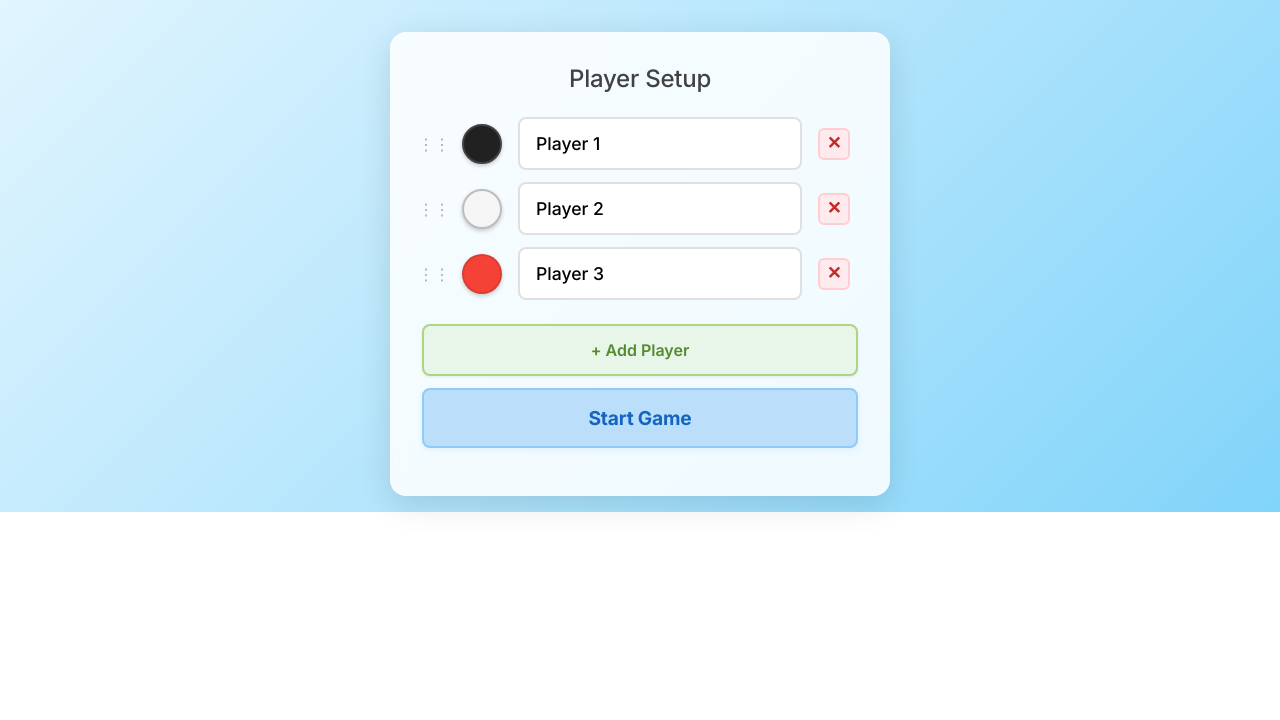
Test: PlayerSetup › should enable start button when all names are filled after being empty
This screenshot has width=1280, height=720.
# Clear one name
Clear the field named "Player 1 name" at x=660, y=144, box [518, 117, 802, 170]
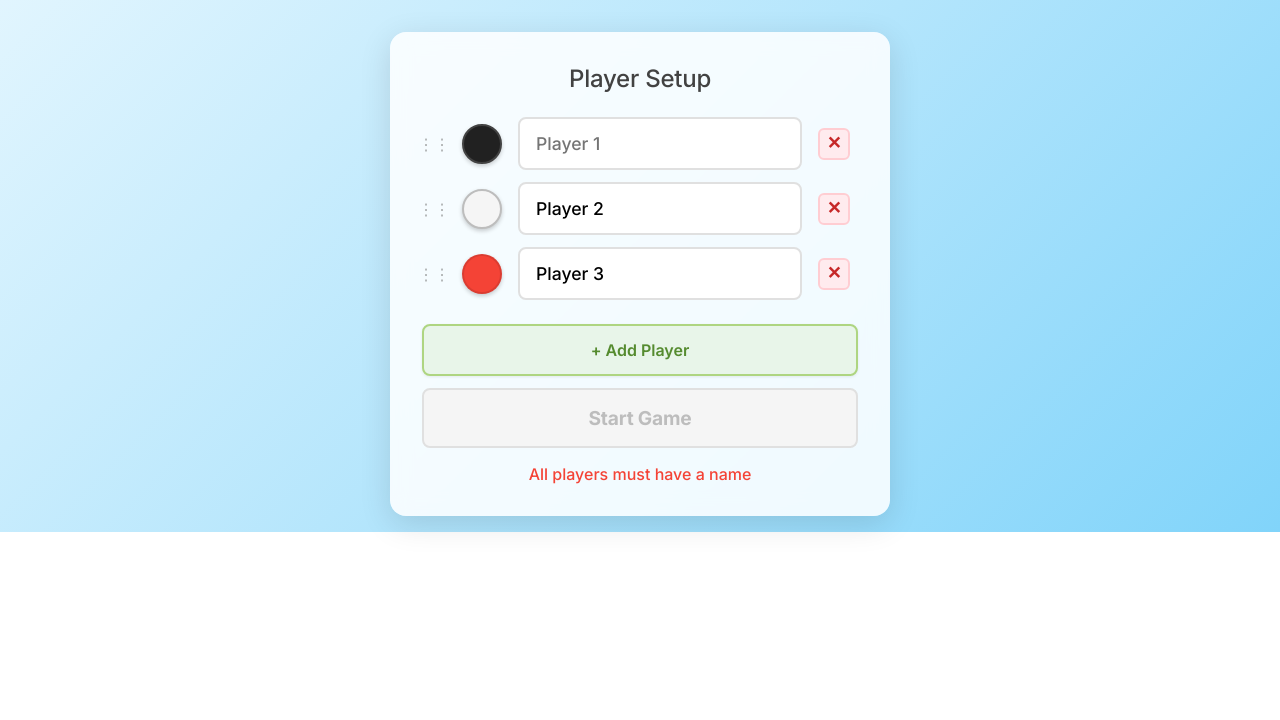
Check: the button "Start Game" is disabled, box [422, 388, 858, 448]
# Fill it back
Type "Alice" into the field with placeholder "Player 1".
click(660, 144); type("Alice")  # box [518, 117, 802, 170]
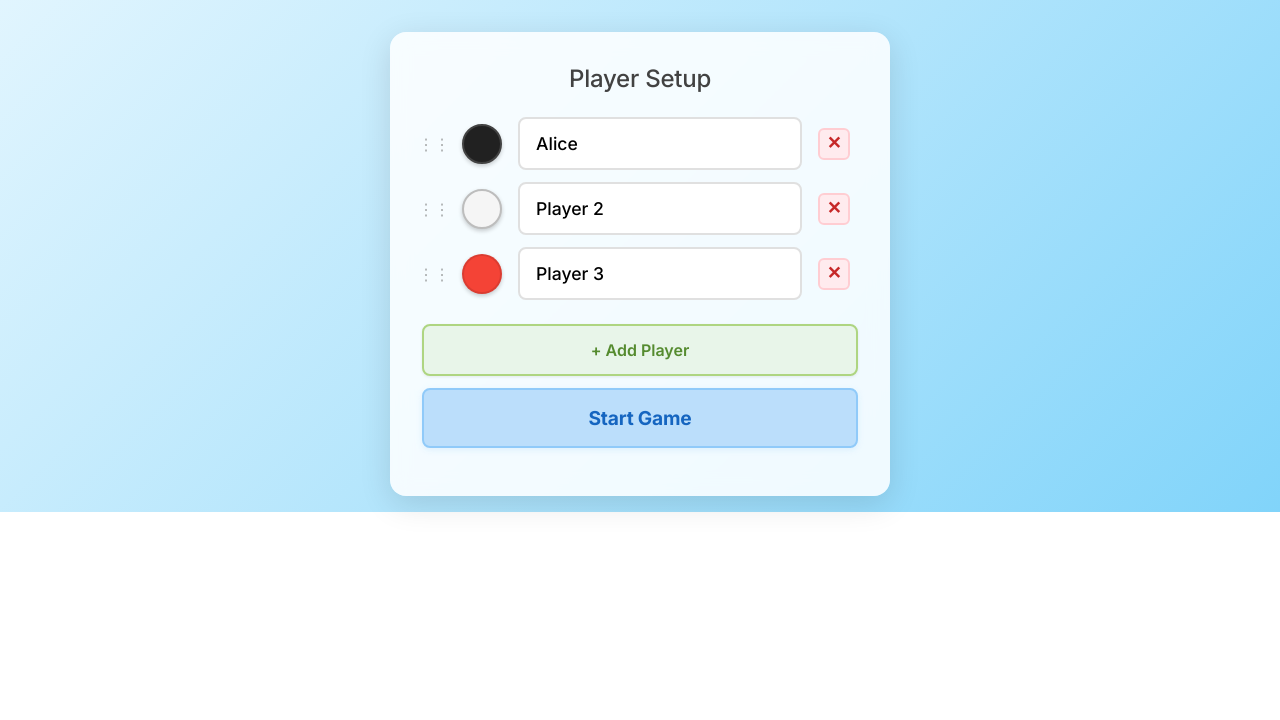
Check: the button "Start Game" is enabled, box [422, 388, 858, 448]
